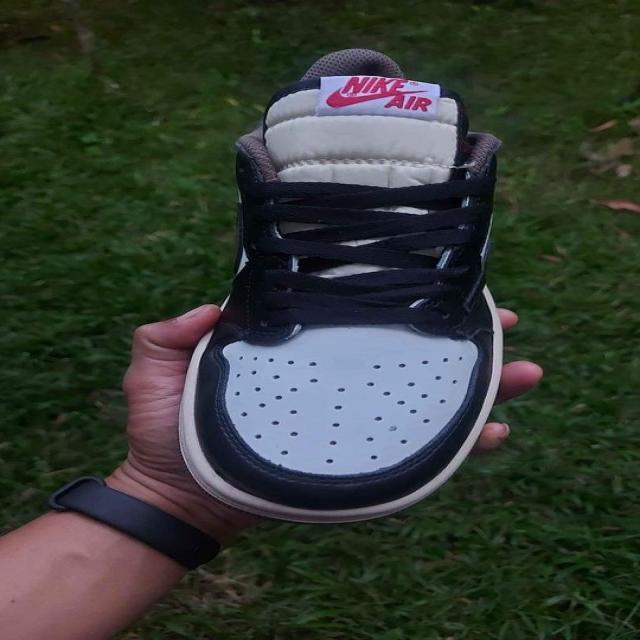nike fake jordan 1: (168, 42, 514, 528)
